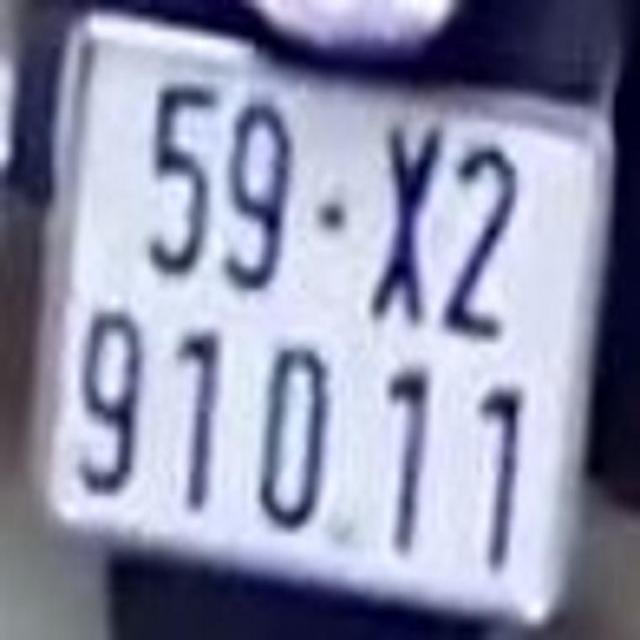0: (260, 343, 327, 528)
1: (382, 362, 431, 551), (171, 322, 218, 513), (476, 381, 520, 574)
2: (448, 146, 513, 341)
5: (148, 82, 215, 273)
9: (72, 306, 142, 493), (225, 102, 286, 286)
X: (376, 122, 436, 325)
